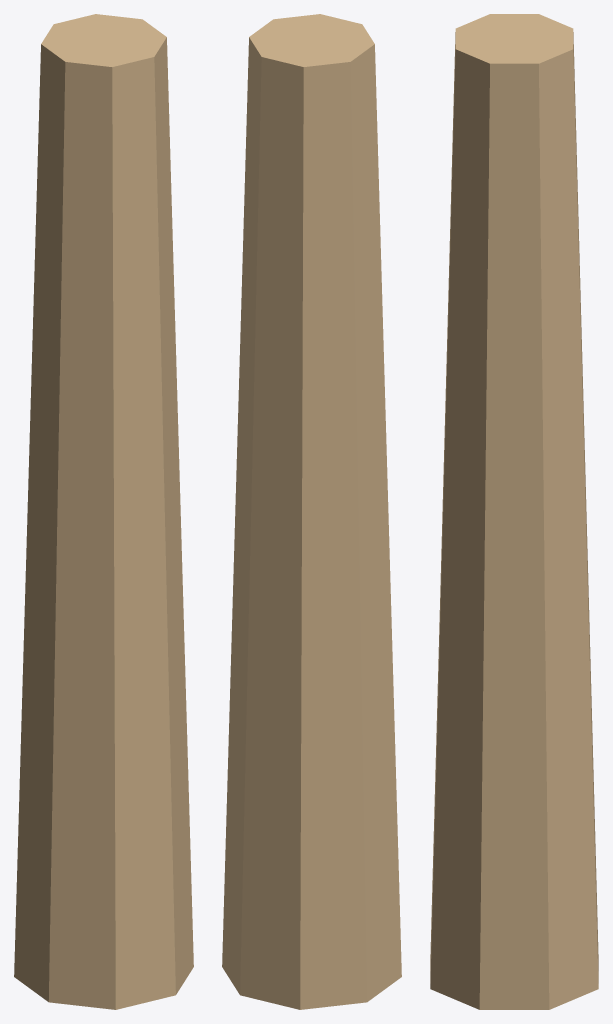
File: prop-spokeshave-handle-blank-sv2.fbx
3 views of the same model, side by side, from view 1: azimuth 30°, elevation 25°; view 2: azimuth 150°, elevation 25°; view 3: azimuth 270°, elevation 25° (orthographic).
Visible parts, largest first — view 1: prop-spokeshave-handle-blank-sv2; view 2: prop-spokeshave-handle-blank-sv2; view 3: prop-spokeshave-handle-blank-sv2.
Part boxes in pixels (x1,y1,x2,y2): prop-spokeshave-handle-blank-sv2: (14, 14, 193, 1009); prop-spokeshave-handle-blank-sv2: (222, 14, 401, 1009); prop-spokeshave-handle-blank-sv2: (430, 14, 598, 1009).
Bounding box in the file's own units: 1.39 × 8.5 × 1.39.
